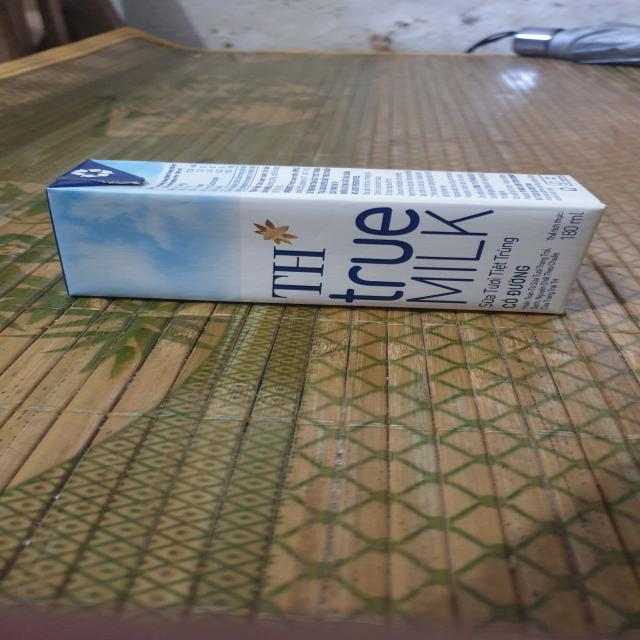TH: (42, 156, 615, 321)
